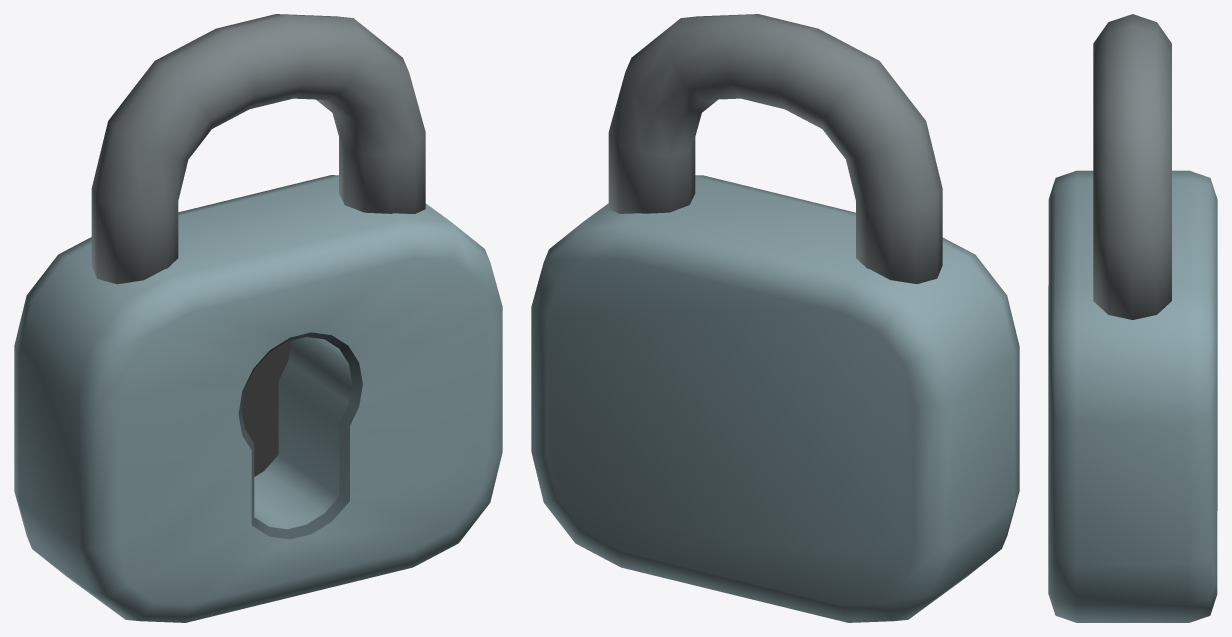
File: lock.fbx
3 views of the same model, side by side, from view 1: azimuth 30°, elevation 25°; view 2: azimuth 150°, elevation 25°; view 3: azimuth 270°, elevation 25° (orthographic). The views are drawn at different scales.
Parts seen in each view (by area): view 1: Element_lock.003, Element_lock.004; view 2: Element_lock.003, Element_lock.004; view 3: Element_lock.003, Element_lock.004.
Boxes of the visible parts, left/top/right/bottom form: Element_lock.003: left=14, top=175, right=502, bottom=622; Element_lock.004: left=91, top=14, right=425, bottom=284; Element_lock.003: left=531, top=175, right=1019, bottom=622; Element_lock.004: left=608, top=14, right=942, bottom=283; Element_lock.003: left=1048, top=170, right=1217, bottom=622; Element_lock.004: left=1093, top=14, right=1171, bottom=319.
Size of the model in its own units: 78.43 by 98.1 by 28.93.
